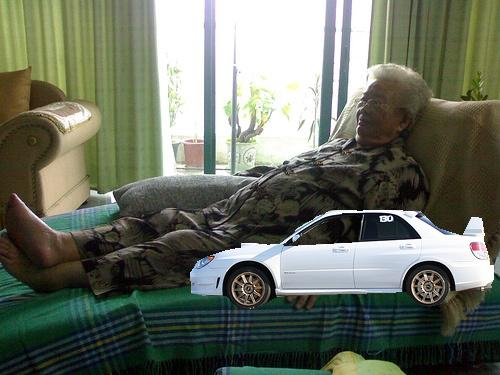tampered: (191, 211, 494, 309)
